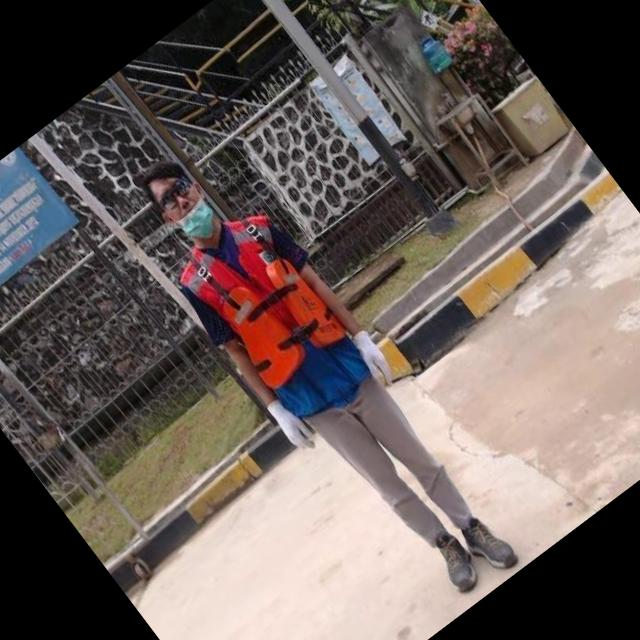safety_vest: (168, 198, 384, 436)
vehicle: (82, 98, 559, 640)
work_boots: (454, 502, 524, 580), (424, 525, 488, 597)
